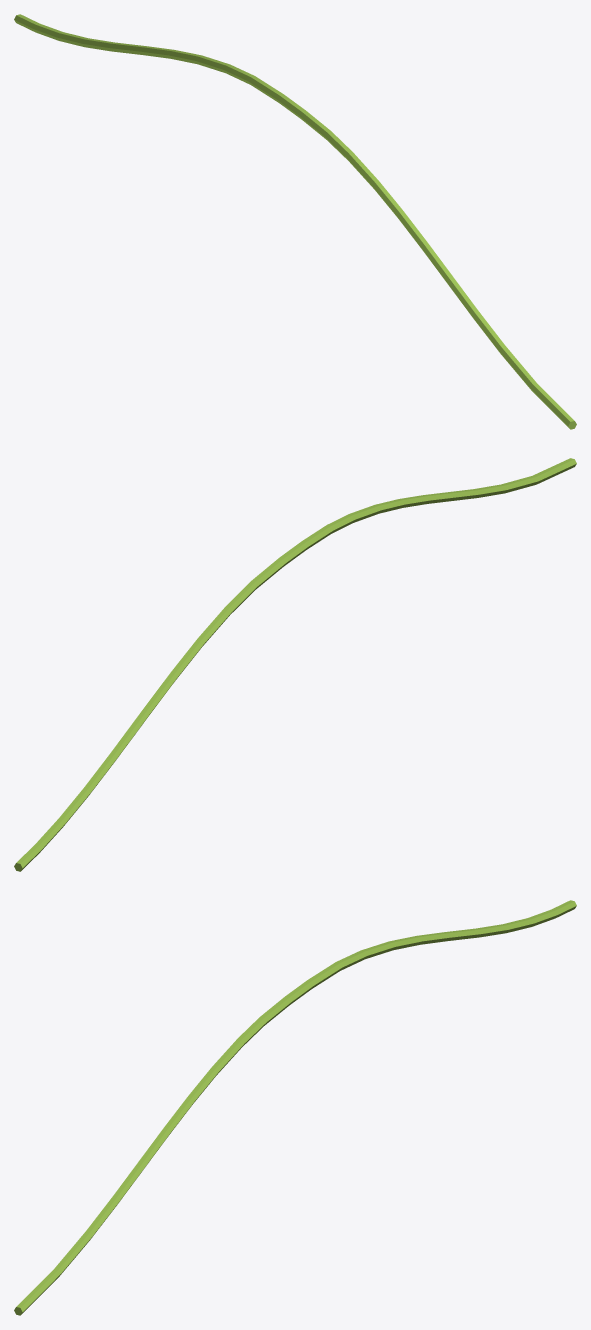
Rendered from melon rope.fbx.
The picture shows the model from 3 angles, top to bottom: view 1: azimuth 30°, elevation 25°; view 2: azimuth 150°, elevation 25°; view 3: azimuth 330°, elevation 25°; orthographic projection.
Parts seen in each view (by area): view 1: pCylinder3; view 2: pCylinder3; view 3: pCylinder3.
Boxes of the visible parts, box(x1,y1,x2,y2) form: pCylinder3: box(14, 14, 576, 429); pCylinder3: box(14, 458, 576, 871); pCylinder3: box(14, 900, 576, 1315).
Bounding box in the file's own units: 1 × 13.17 × 109.
